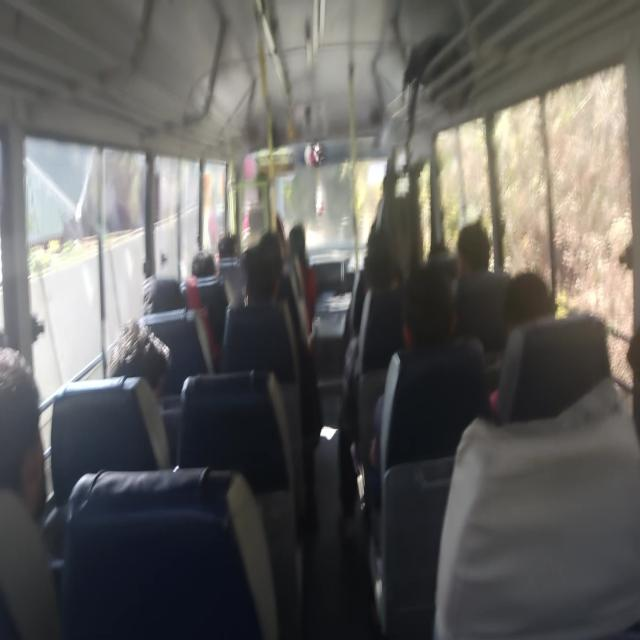person: (0, 340, 86, 556), (100, 306, 177, 425), (411, 276, 476, 350), (226, 250, 289, 317), (620, 318, 640, 509), (143, 278, 204, 334), (508, 279, 554, 349), (175, 244, 232, 298), (449, 222, 483, 281), (218, 229, 252, 277), (365, 266, 402, 300), (258, 232, 283, 278), (288, 220, 316, 256), (365, 223, 387, 266), (432, 226, 455, 265)
